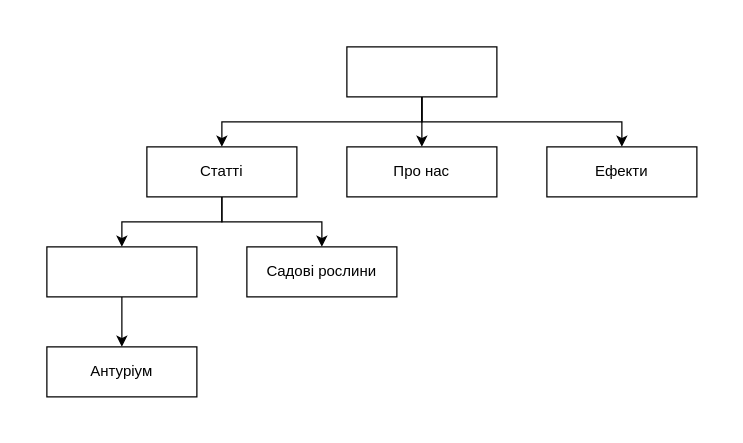
The diagram is 743 pixels wide and 443 high, and some of its shapes have lost their labels. The centre of each missing label's shape, as x and y in pixels:
Головна: point 421,71
Кімнатні рослини: point 121,271
